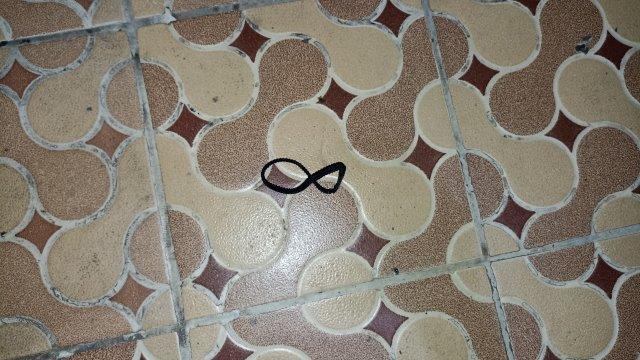karet: (261, 158, 346, 194)
